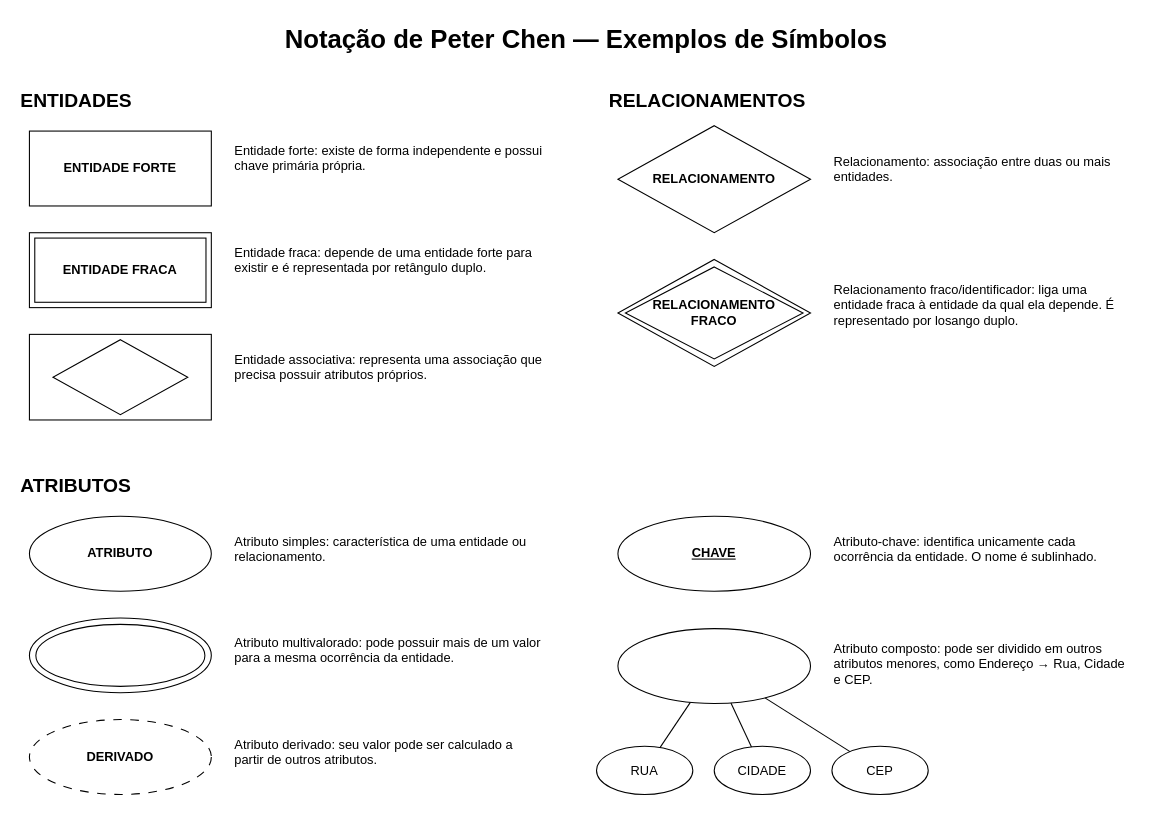
Image size: 1149x813. Some labels were removed from this diagram. The shapes that lost their labels are listed below. From the top down, each one's box as (x1, y1, x2, y2) in pixels, then its label:
(28, 333, 211, 420): ENTIDADE ASSOCIATIVA
(35, 623, 205, 686): MULTIVALORADO
(617, 628, 811, 704): ATRIBUTO COMPOSTO
